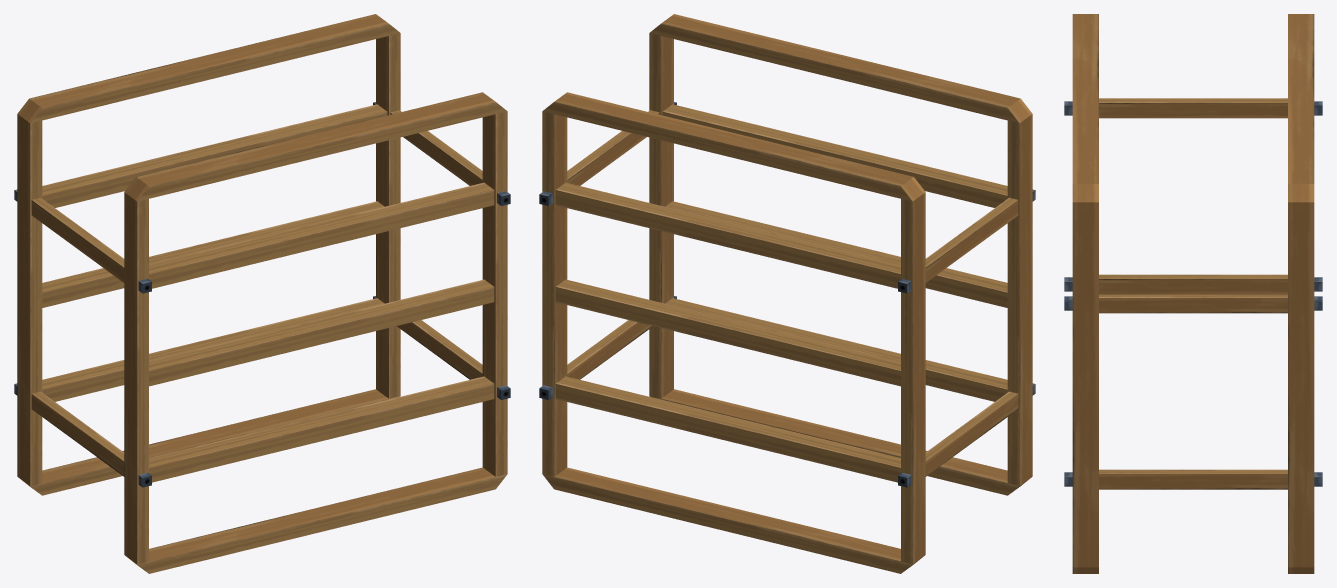
The model's file is StackedGlassHolder.fbx.
3 views of the same model, side by side, from view 1: azimuth 30°, elevation 25°; view 2: azimuth 150°, elevation 25°; view 3: azimuth 270°, elevation 25° (orthographic).
Visible parts, largest first — view 1: StackedGlassHolder; view 2: StackedGlassHolder; view 3: StackedGlassHolder.
Boxes of the visible parts, x1,y1,x2,y2 form: StackedGlassHolder: (14,14,510,573); StackedGlassHolder: (539,14,1035,573); StackedGlassHolder: (1064,14,1322,573).
Bounding box in the file's own units: 100 × 100 × 60.01.
